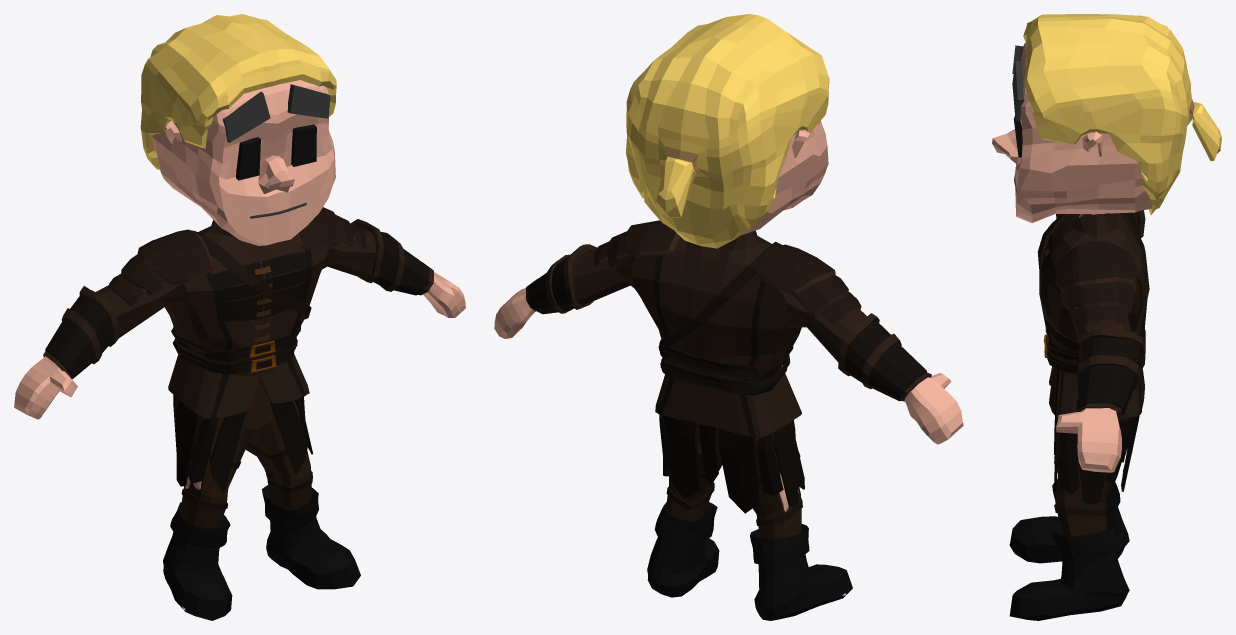
The model's file is Joe_Leather.fbx.
3 renders of one model, left to right at view 1: azimuth 30°, elevation 25°; view 2: azimuth 150°, elevation 25°; view 3: azimuth 270°, elevation 25°, orthographic. The views are drawn at different scales.
Visible parts, largest first — view 1: Joe, Joe.001, Joe.002; view 2: Joe.001, Joe, Joe.002; view 3: Joe, Joe.001, Joe.002.
Boxes of the visible parts, x1,y1,x2,y2 form: Joe: (14, 14, 465, 609); Joe.001: (43, 207, 433, 418); Joe.002: (163, 378, 360, 620); Joe.001: (526, 220, 931, 437); Joe: (494, 14, 963, 595); Joe.002: (647, 414, 852, 620); Joe: (992, 14, 1221, 617); Joe.001: (1037, 210, 1149, 418); Joe.002: (1009, 414, 1139, 620).
Size of the model in its own units: 330 by 394 by 145.
